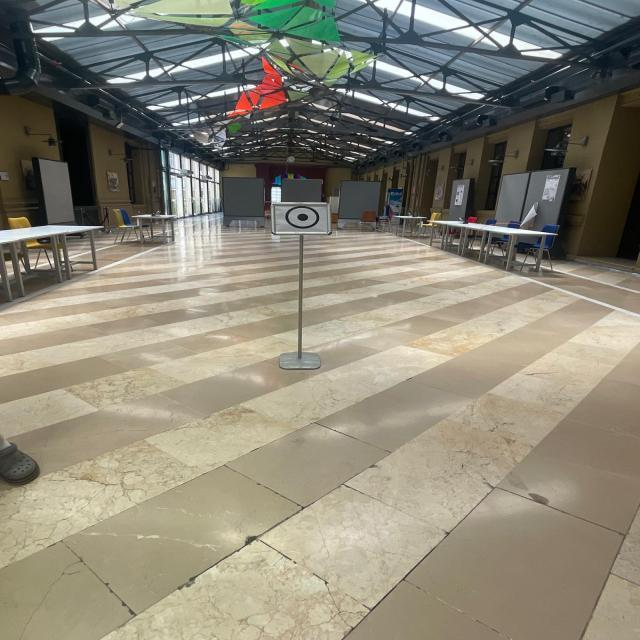Target: (263, 192, 341, 242)
inner: (293, 209, 314, 226)
